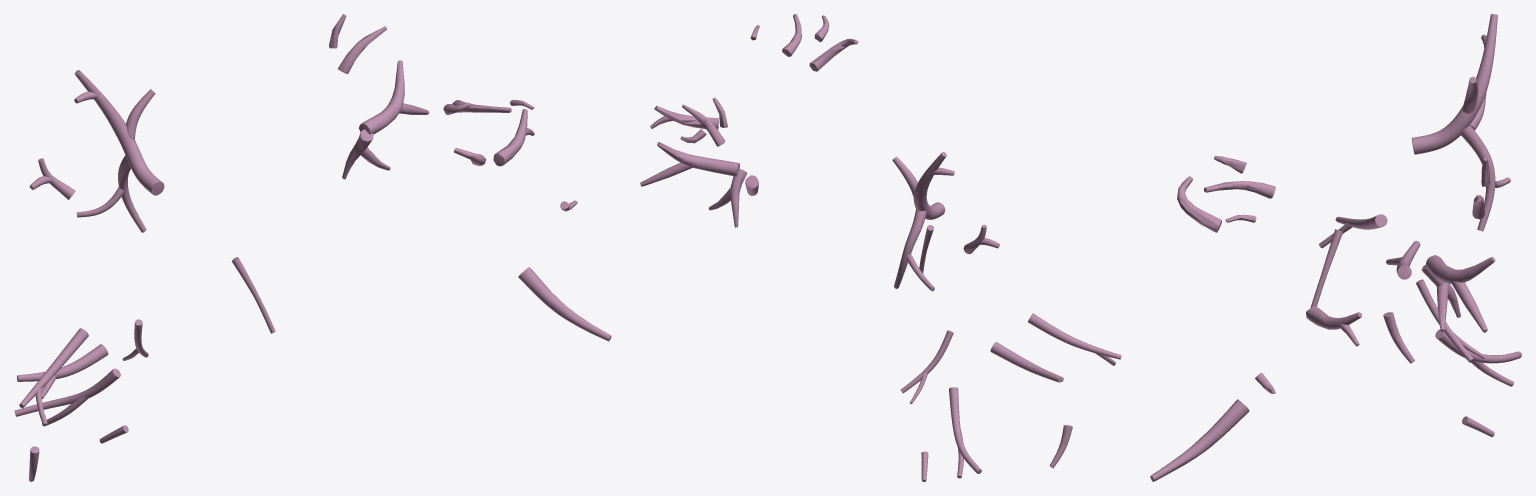
File: thorax-5.glb
3 views of the same model, side by side, from view 1: azimuth 30°, elevation 25°; view 2: azimuth 150°, elevation 25°; view 3: azimuth 270°, elevation 25° (orthographic). The views are drawn at different scales.
Parts seen in each view (by area): view 1: FJ2496, FJ2475, FJ2479, FJ2493, FJ2487, FJ2491, FJ2476, FJ2499; view 2: FJ2479, FJ2496, FJ2493, FJ2491, FJ2487, FJ2499, FJ2476, FJ2473; view 3: FJ2496, FJ2475, FJ2499, FJ2479, FJ2473, FJ2474, FJ2487, FJ2470, FJ2476, FJ2482, FJ2488, FJ2493 (+5 smaller).
Boxes of the visible parts, left/top/right/bottom form: FJ2496: left=74, top=70, right=164, bottom=195; FJ2475: left=518, top=267, right=611, bottom=341; FJ2479: left=359, top=60, right=404, bottom=134; FJ2493: left=19, top=328, right=88, bottom=408; FJ2487: left=14, top=368, right=120, bottom=416; FJ2491: left=17, top=344, right=108, bottom=381; FJ2476: left=493, top=109, right=527, bottom=166; FJ2499: left=118, top=155, right=146, bottom=232; FJ2479: left=657, top=142, right=739, bottom=176; FJ2496: left=913, top=152, right=946, bottom=219; FJ2493: left=1028, top=313, right=1121, bottom=359; FJ2491: left=990, top=342, right=1062, bottom=382; FJ2487: left=949, top=387, right=981, bottom=473; FJ2499: left=894, top=209, right=926, bottom=288; FJ2476: left=654, top=105, right=718, bottom=129; FJ2473: left=809, top=38, right=858, bottom=71; FJ2496: left=1411, top=14, right=1497, bottom=154; FJ2475: left=1150, top=399, right=1249, bottom=481; FJ2499: left=1461, top=125, right=1495, bottom=231; FJ2479: left=1426, top=255, right=1495, bottom=283; FJ2473: left=1177, top=176, right=1221, bottom=232; FJ2474: left=1204, top=181, right=1275, bottom=198; FJ2487: left=1435, top=329, right=1521, bottom=363; FJ2470: left=1416, top=279, right=1473, bottom=362; FJ2476: left=1306, top=306, right=1361, bottom=329; FJ2482: left=1451, top=281, right=1487, bottom=332; FJ2488: left=1310, top=229, right=1343, bottom=308; FJ2493: left=1335, top=214, right=1387, bottom=229.
Bounding box in the file's own units: 0.2299 × 0.1575 × 0.129.
